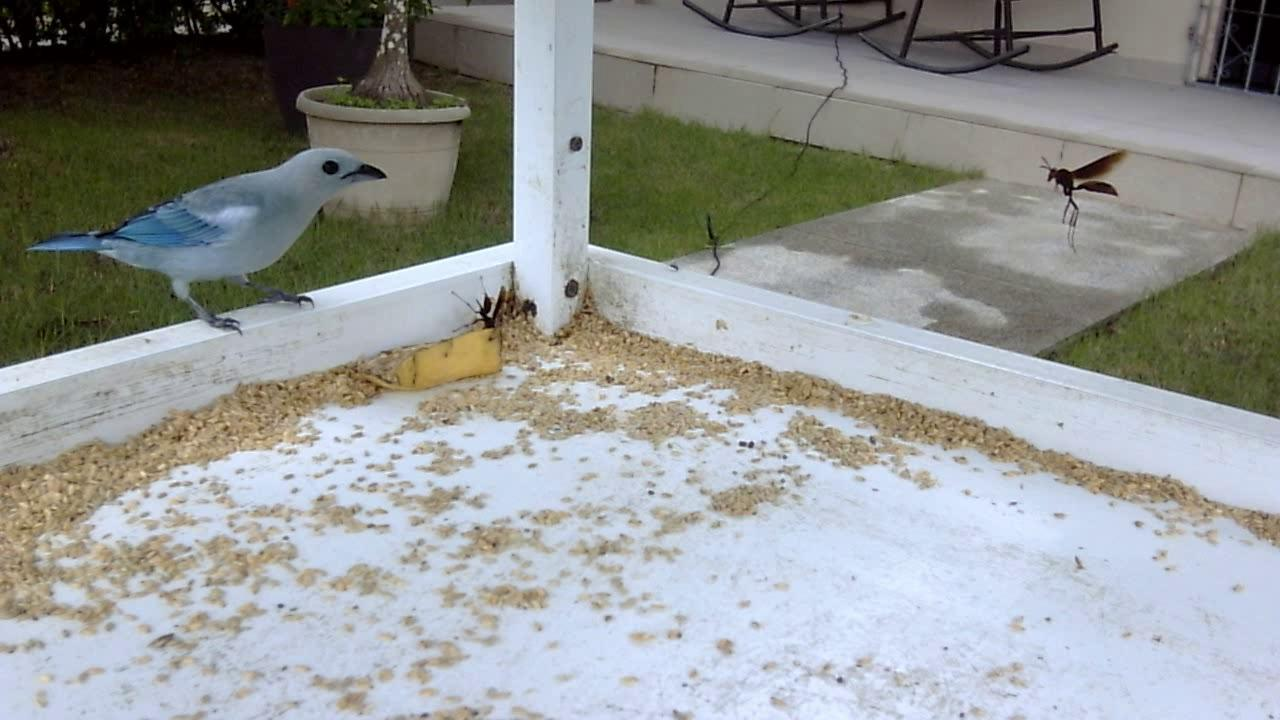sanhaco_da_amazonia: (28, 148, 387, 341)
